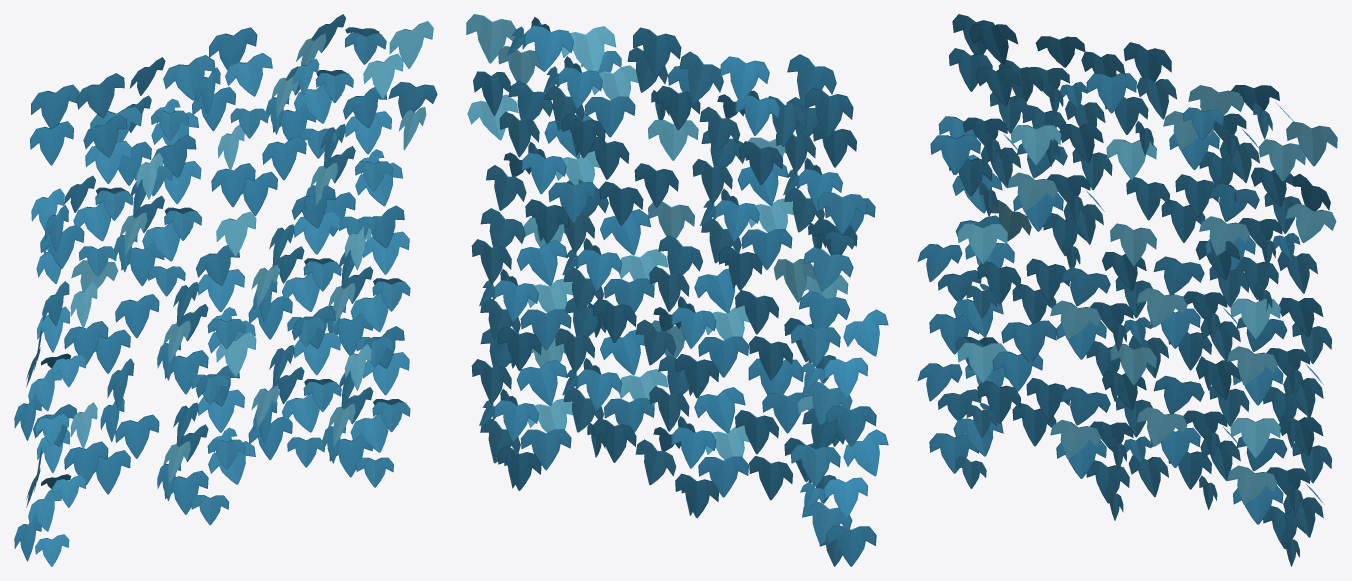
Rendered from Bush_Vines02.fbx.
The picture shows the model from 3 angles, left to right: view 1: azimuth 30°, elevation 25°; view 2: azimuth 150°, elevation 25°; view 3: azimuth 330°, elevation 25°; orthographic projection.
Parts seen in each view (by area): view 1: Plane.005; view 2: Plane.005; view 3: Plane.005.
Part boxes in pixels (x1,y1,x2,y2): Plane.005: (14,14,437,566); Plane.005: (466,14,888,566); Plane.005: (917,14,1337,566).
Size of the model in its own units: 163 by 185 by 26.89.
